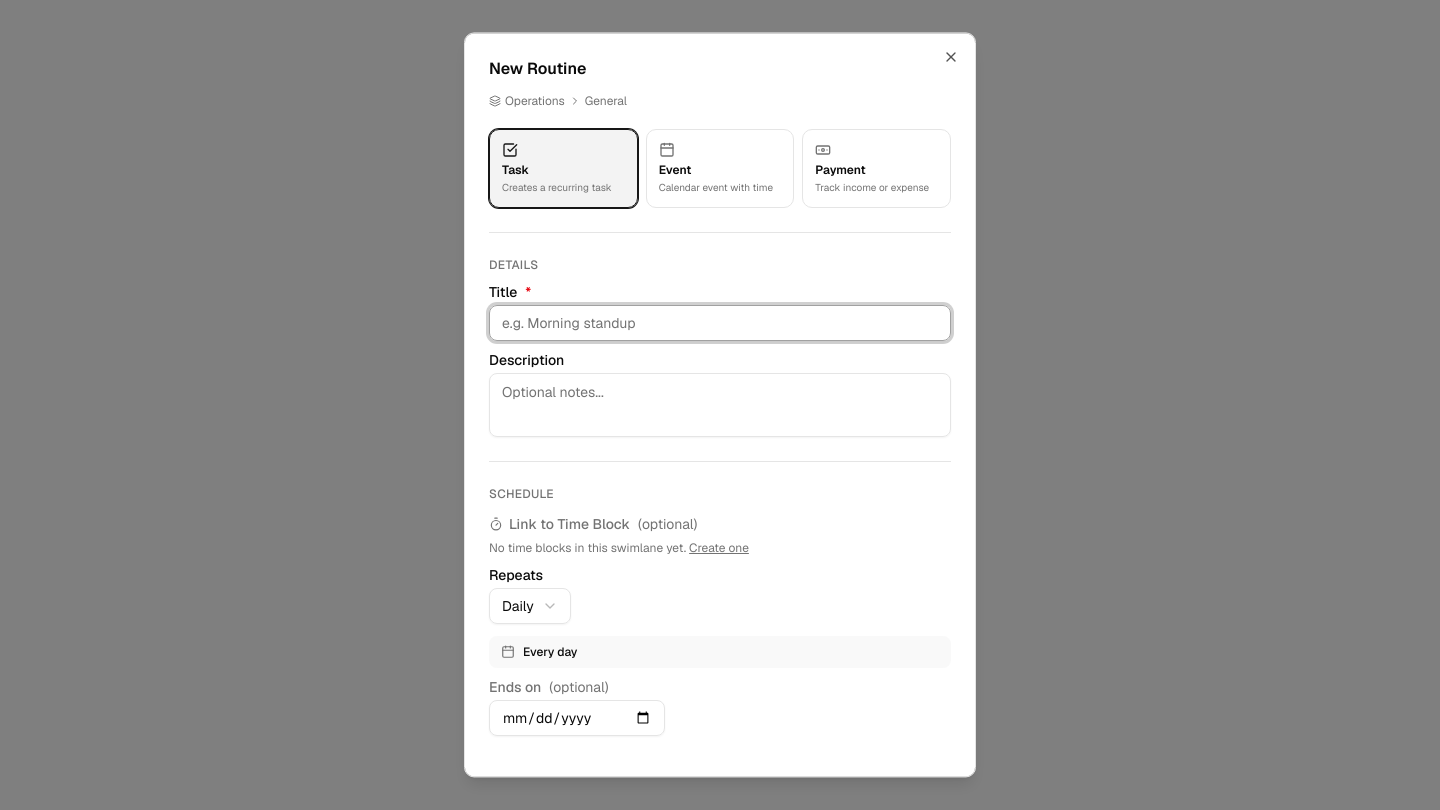
Test case: RoutineDialog — validation › requires an event time before saving an event routine
The width and height of the screenshot is (1440, 810).
Type "Team sync" into the field labelled "Title *" at (720,323), box [489,305,951,341]
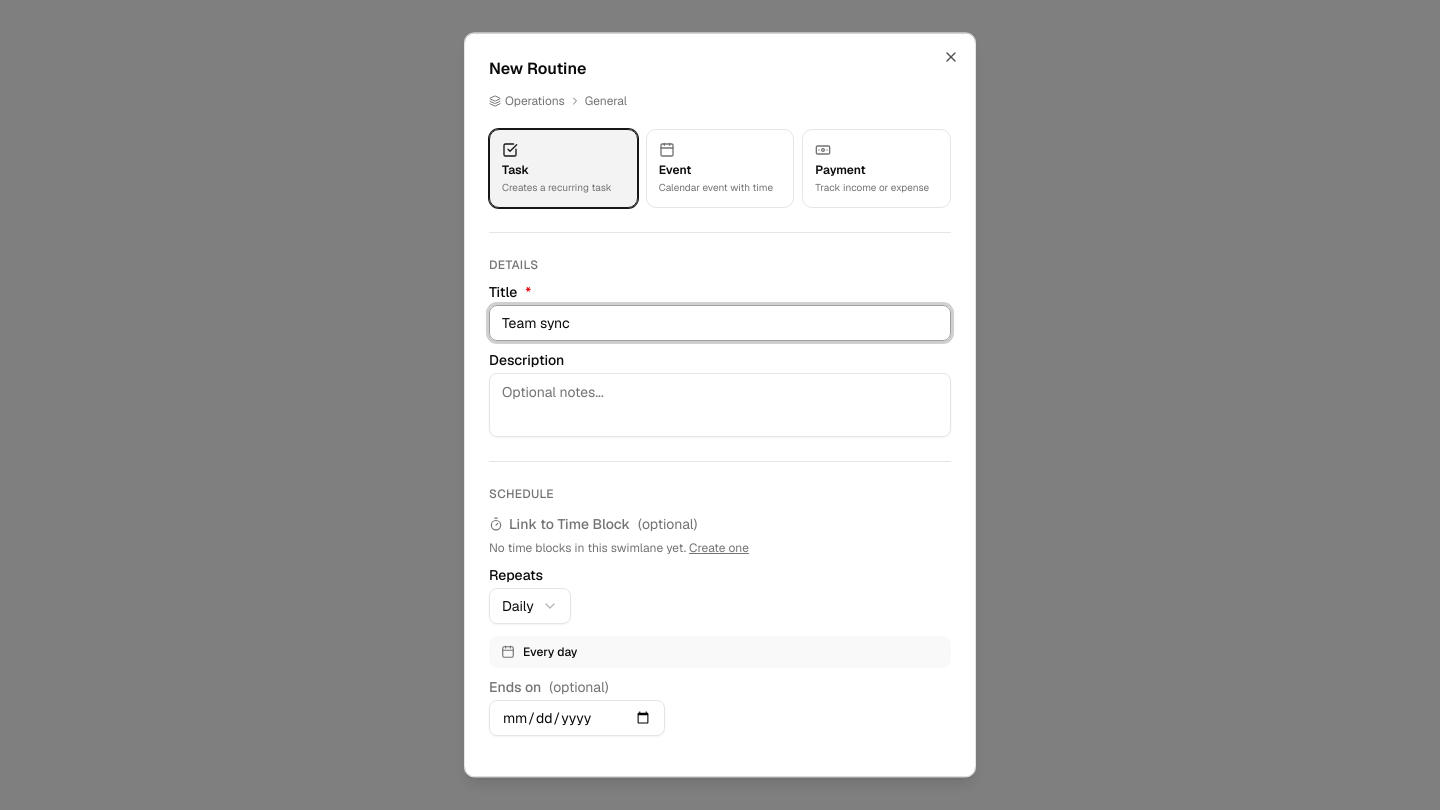
Click the button "Event Calendar event with time" at (720,169), box [646,129,794,208]
(page scrolled)
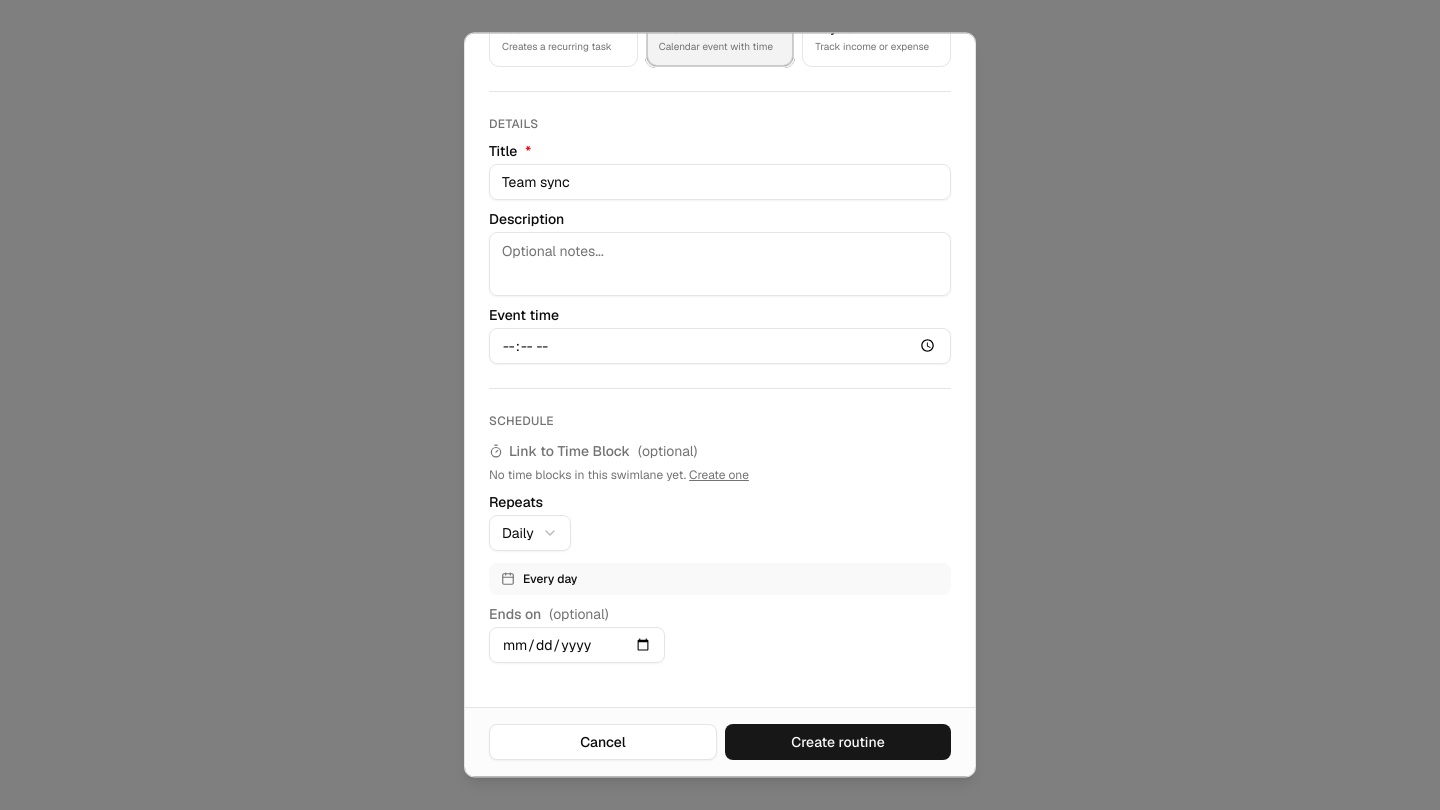
Click the button "Create routine" at (838,742), box [725,724,951,760]
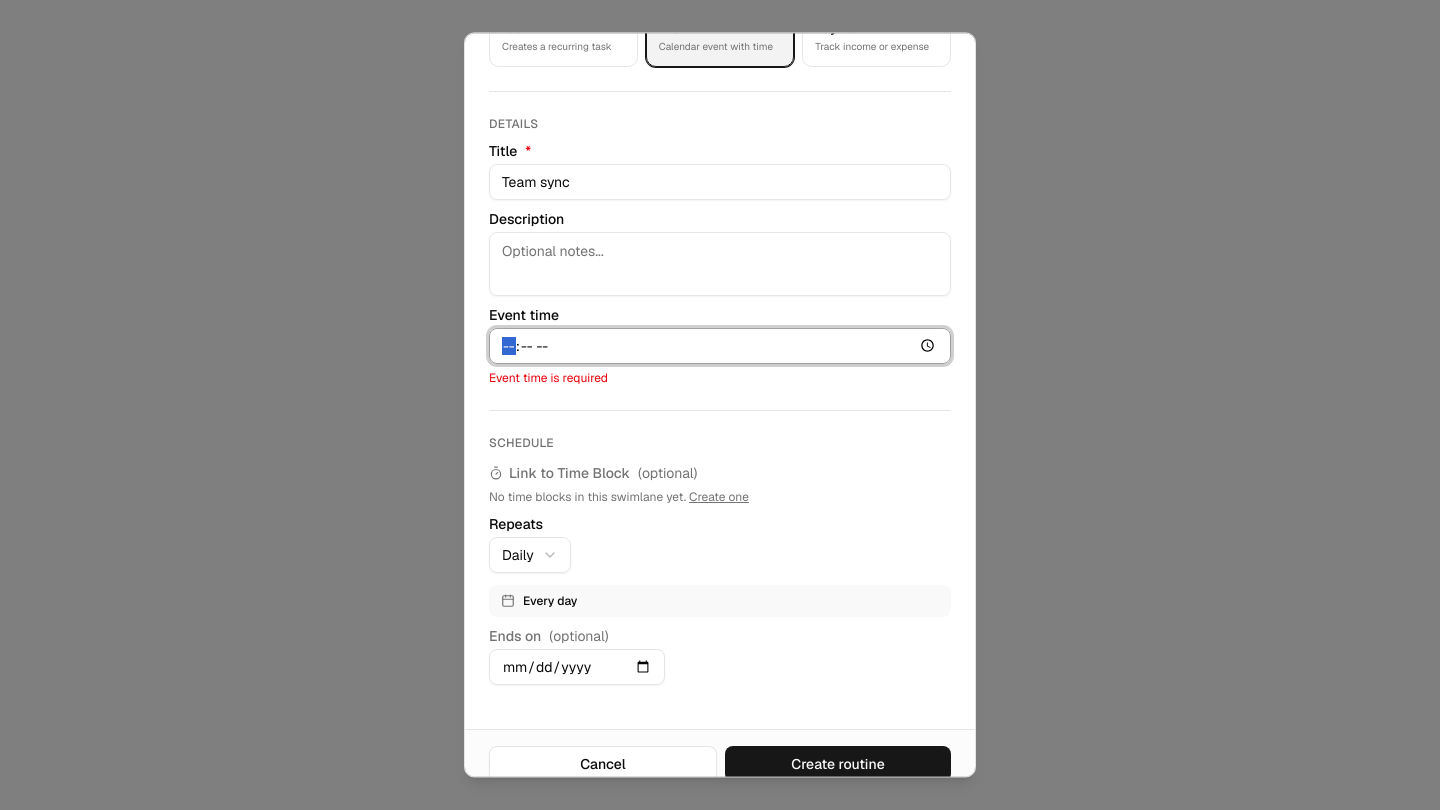
Expected: the text "Event time is required" is shown, [489,370,608,386]
